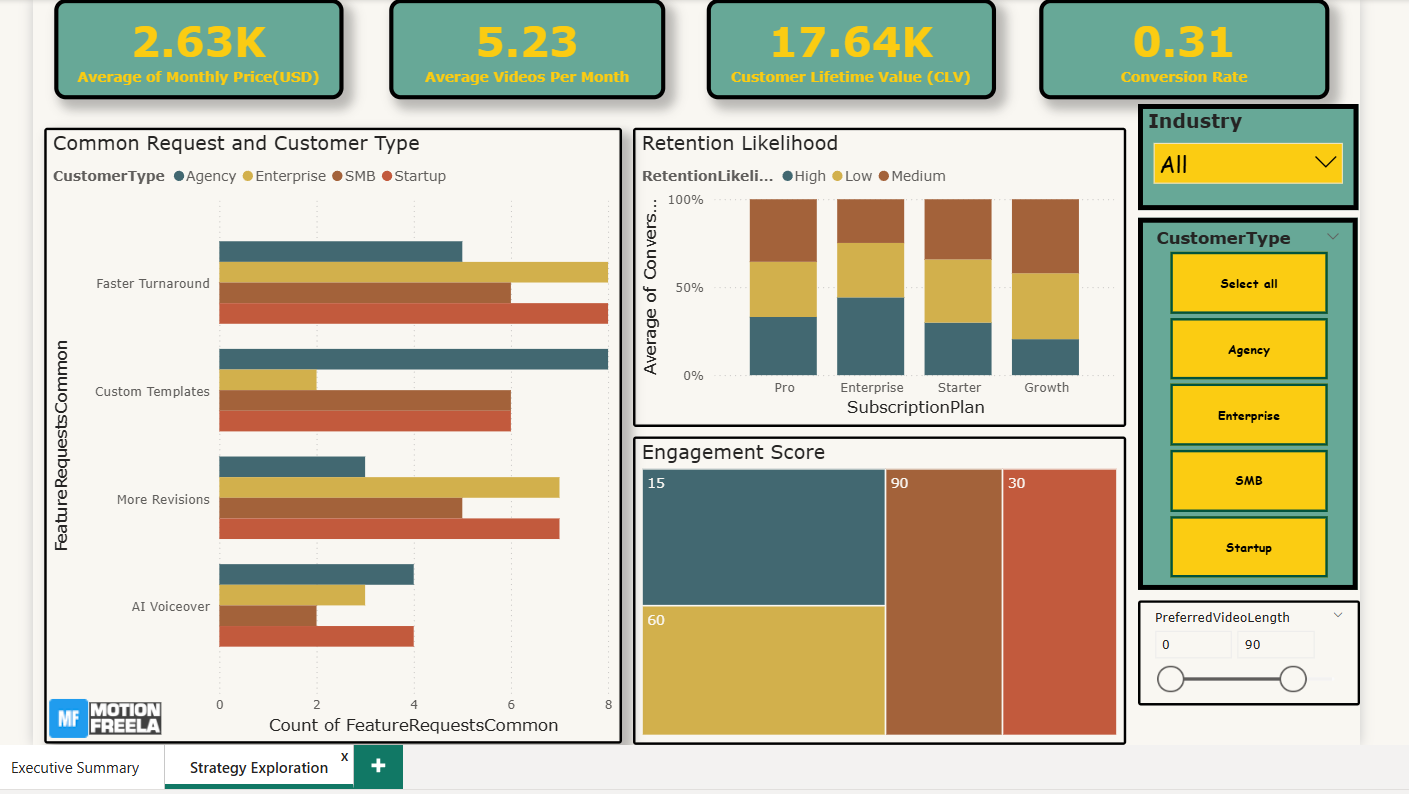

The dashboard page shown, as its layout file describes it:
{"tool":"powerbi","page":{"name":"Strategy Exploration","canvas":[1280,720],"ordinal":1},"visuals":[{"type":"treemap","title":"Engagement Score","fields":{"Group":["MotionFreela_CustomDataset.PreferredVideoLength"],"Values":["Avg(MotionFreela_CustomDataset.EngagementScore)"]},"box":[578.9,421.7,476.1,297.8],"z":0},{"type":"hundredPercentStackedColumnChart","title":"Retention Likelihood","fields":{"Category":["MotionFreela_CustomDataset.SubscriptionPlan"],"Y":["Avg(MotionFreela_CustomDataset.ConversionRate)"],"Series":["MotionFreela_CustomDataset.RetentionLikelihood"]},"box":[578.9,123.9,476.1,288.7],"z":1000},{"type":"clusteredBarChart","title":"Common Request and Customer Type","fields":{"Category":["MotionFreela_CustomDataset.FeatureRequestsCommon"],"Series":["MotionFreela_CustomDataset.CustomerType"],"Y":["CountNonNull(MotionFreela_CustomDataset.FeatureRequestsCommon)"]},"box":[10.9,124.3,557.4,594.8],"z":2000},{"type":"card","fields":{"Values":["Avg(MotionFreela_CustomDataset.MonthlyPriceUSD)"]},"box":[21.1,0,279,96.5],"z":3000},{"type":"card","fields":{"Values":["Avg(MotionFreela_CustomDataset.AvgVideosPerMonth)"]},"box":[343.6,0,266.6,96.6],"z":4000},{"type":"card","fields":{"Values":["Avg(MotionFreela_CustomDataset.Customer Lifetime Value (CLV))"]},"box":[650.5,0,278.8,96.6],"z":5000},{"type":"card","fields":{"Values":["Avg(MotionFreela_CustomDataset.ConversionRate)"]},"box":[970.9,0,280,96.6],"z":6000},{"type":"slicer","fields":{"Values":["MotionFreela_CustomDataset.CustomerType"]},"box":[1066.5,211.1,212.3,359.5],"z":7000},{"type":"slicer","title":"Industry","fields":{"Values":["MotionFreela_CustomDataset.Industry"]},"box":[1066.2,101,212.6,102.5],"z":8000},{"type":"image","box":[10.9,668.4,47.1,51.9],"z":9000},{"type":"image","box":[49.5,668.4,79.6,51.9],"z":10000},{"type":"slicer","fields":{"Values":["MotionFreela_CustomDataset.PreferredVideoLength"]},"box":[1066.3,580.3,214,102],"z":11000}]}

Visuals, with their boxes in screenshot pixels (x1, y1, x2, y2):
"Engagement Score" treemap: (625,434,1123,746)
"Retention Likelihood" hundredPercentStackedColumnChart: (625,122,1123,425)
"Common Request and Customer Type" clusteredBarChart: (30,123,613,746)
card - Avg(MotionFreela_CustomDataset.MonthlyPriceUSD): (40,0,333,94)
card - Avg(MotionFreela_CustomDataset.AvgVideosPerMonth): (378,0,657,94)
card - Avg(MotionFreela_CustomDataset.Customer Lifetime Value (CLV)): (699,0,991,94)
card - Avg(MotionFreela_CustomDataset.ConversionRate): (1035,0,1328,94)
slicer - MotionFreela_CustomDataset.CustomerType: (1135,214,1357,590)
"Industry" slicer: (1135,98,1357,206)
image: (30,693,79,747)
image: (70,693,154,747)
slicer - MotionFreela_CustomDataset.PreferredVideoLength: (1135,600,1359,707)
